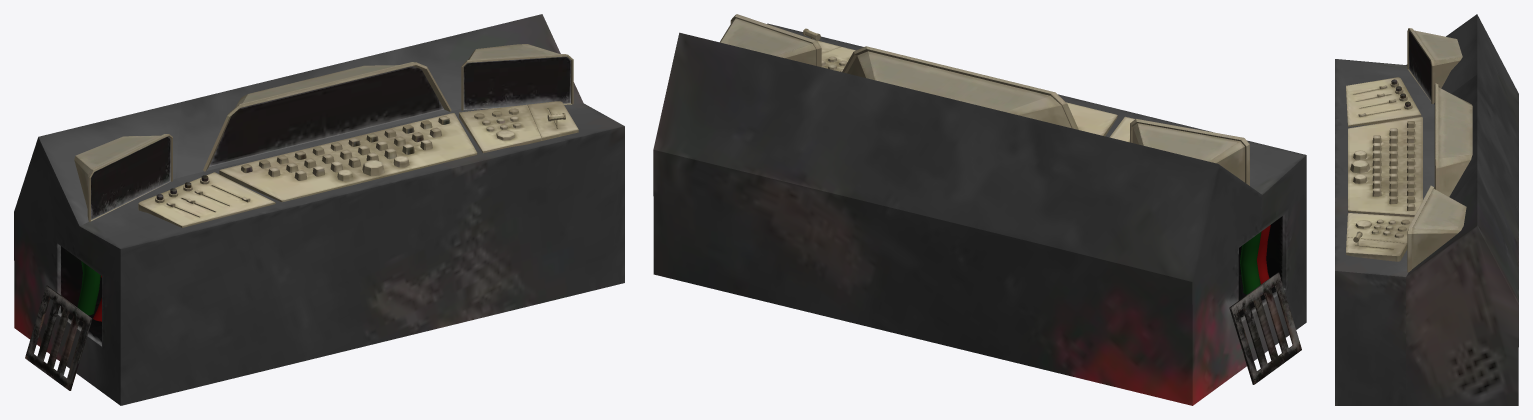
File: central_console.glb
3 renders of one model, left to right at view 1: azimuth 30°, elevation 25°; view 2: azimuth 150°, elevation 25°; view 3: azimuth 270°, elevation 25°, orthographic. The views are drawn at different scales.
Visible parts, largest first — view 1: deskold_deskold_0, soloscreenold_soloscreenold_0, keyboardold_keyboardold_0, screenold_screenold_0, gridold_gridoldold_0, cablesold_cablesold_0; view 2: deskold_deskold_0, screenold_screenold_0, gridold_gridoldold_0, keyboardold_keyboardold_0, cablesold_cablesold_0; view 3: deskold_deskold_0, keyboardold_keyboardold_0, screenold_screenold_0, soloscreenold_soloscreenold_0.
Boxes of the visible parts, left/top/right/bottom form: deskold_deskold_0: left=14, top=14, right=624, bottom=405; soloscreenold_soloscreenold_0: left=91, top=56, right=570, bottom=219; keyboardold_keyboardold_0: left=138, top=101, right=578, bottom=227; screenold_screenold_0: left=74, top=44, right=573, bottom=221; gridold_gridoldold_0: left=25, top=285, right=92, bottom=390; cablesold_cablesold_0: left=77, top=261, right=101, bottom=321; deskold_deskold_0: left=653, top=23, right=1306, bottom=405; screenold_screenold_0: left=720, top=14, right=1249, bottom=185; gridold_gridoldold_0: left=1229, top=272, right=1301, bottom=384; keyboardold_keyboardold_0: left=802, top=28, right=1134, bottom=142; cablesold_cablesold_0: left=1238, top=225, right=1270, bottom=299; deskold_deskold_0: left=1335, top=14, right=1518, bottom=405; keyboardold_keyboardold_0: left=1346, top=77, right=1422, bottom=261; screenold_screenold_0: left=1407, top=28, right=1472, bottom=272; soloscreenold_soloscreenold_0: left=1409, top=31, right=1431, bottom=100.
Bounding box in the file's own units: 7.39 × 2.87 × 2.59.
Materials: 6 (6 with a texture image).
